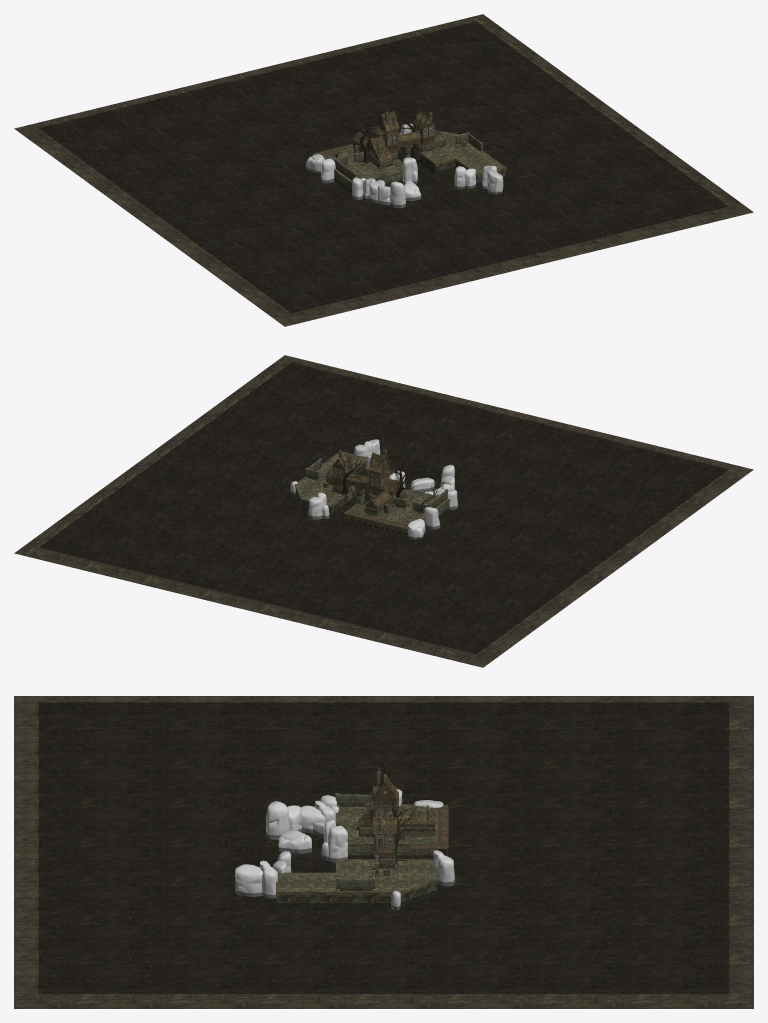
File: medieval.fbx
The picture shows the model from 3 angles, top to bottom: view 1: azimuth 30°, elevation 25°; view 2: azimuth 150°, elevation 25°; view 3: azimuth 270°, elevation 25°; orthographic projection. The views are drawn at different scales.
Parts seen in each view (by area): view 1: floor, waterplane, floor_2, house2, house1, bridge1; view 2: floor, waterplane, floor_2, house2, dock, bridge1; view 3: floor, waterplane, floor_2, house1, house2, sidebuild2_1, rock5_1, rock7, dock, rock8, rock4, rock2_1.
Boxes of the visible parts, x1=… form: floor: x1=14, y1=14, x2=753, y2=326; waterplane: x1=39, y1=21, x2=728, y2=312; floor_2: x1=322, y1=131, x2=506, y2=193; house2: x1=366, y1=111, x2=399, y2=164; house1: x1=414, y1=111, x2=435, y2=152; bridge1: x1=397, y1=130, x2=420, y2=163; floor: x1=14, y1=355, x2=753, y2=667; waterplane: x1=39, y1=362, x2=728, y2=653; floor_2: x1=295, y1=451, x2=450, y2=535; house2: x1=368, y1=452, x2=400, y2=504; dock: x1=343, y1=503, x2=410, y2=539; bridge1: x1=346, y1=473, x2=369, y2=504; floor: x1=14, y1=696, x2=753, y2=1008; waterplane: x1=38, y1=702, x2=729, y2=993; floor_2: x1=276, y1=804, x2=437, y2=906; house1: x1=373, y1=817, x2=396, y2=868; house2: x1=370, y1=774, x2=399, y2=835; sidebuild2_1: x1=397, y1=812, x2=435, y2=836; rock5_1: x1=235, y1=864, x2=262, y2=896; rock7: x1=266, y1=801, x2=289, y2=839; dock: x1=410, y1=805, x2=448, y2=859; rock8: x1=278, y1=830, x2=311, y2=853; rock4: x1=327, y1=825, x2=347, y2=862; rock2_1: x1=433, y1=850, x2=455, y2=886.
Bounding box in the file's own units: 16457 × 2602 × 16457.
